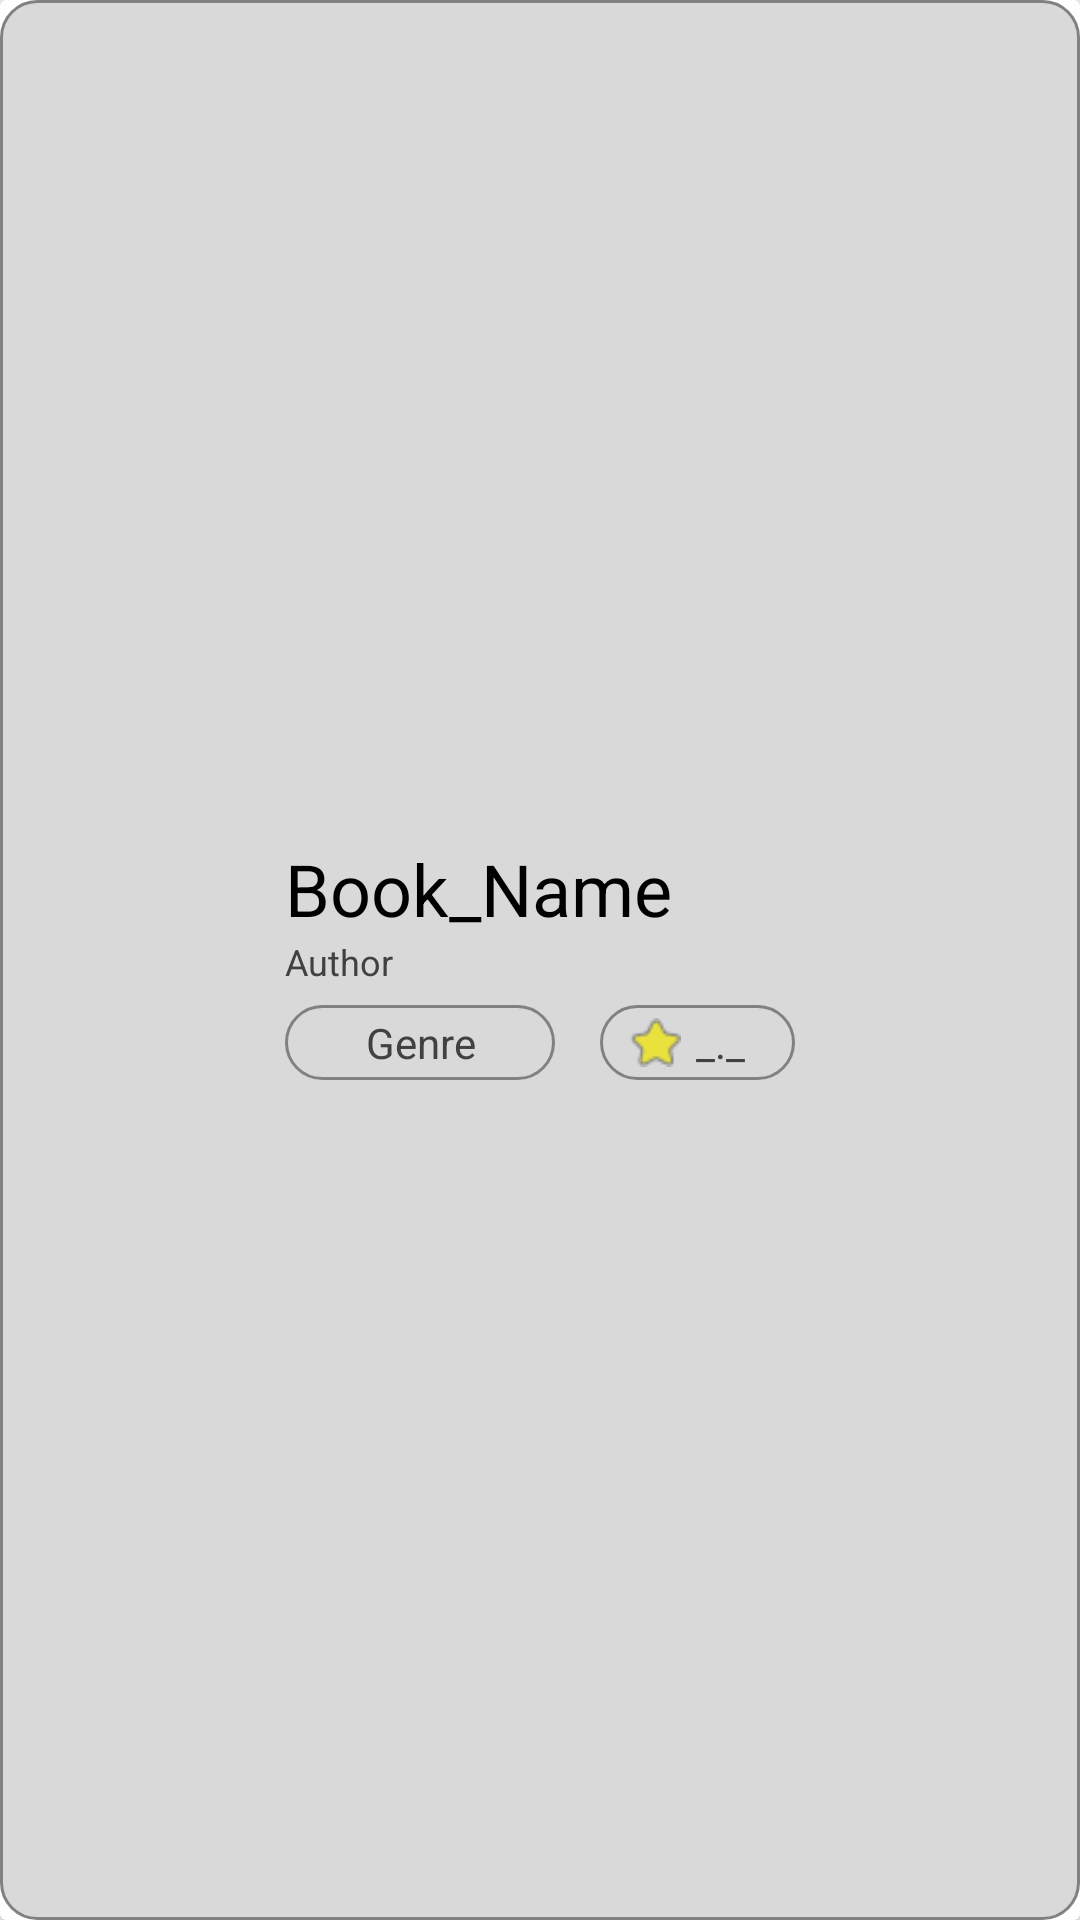

Point at icon controls on the screen. Image size 1080px×1920px, points as [x,y].
star: [656,1042]
